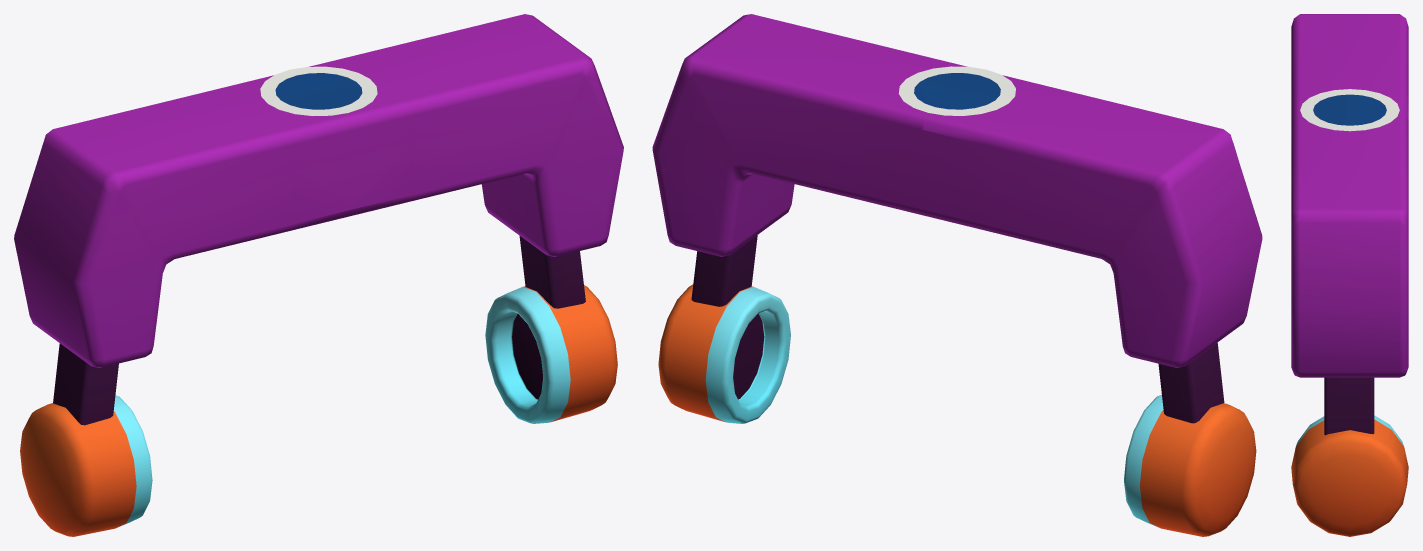
3 views of the same model, side by side, from view 1: azimuth 30°, elevation 25°; view 2: azimuth 150°, elevation 25°; view 3: azimuth 270°, elevation 25° (orthographic). The views are drawn at different scales.
Parts seen in each view (by area): view 1: shape2_2, top_cycle; view 2: shape2_2, top_cycle; view 3: shape2_2, top_cycle.
Part boxes in pixels (x1=…): shape2_2: x1=14, y1=14, x2=623, y2=536; top_cycle: x1=260, y1=66, x2=377, y2=115; shape2_2: x1=652, y1=14, x2=1262, y2=536; top_cycle: x1=898, y1=66, x2=1015, y2=115; shape2_2: x1=1291, y1=14, x2=1408, y2=536; top_cycle: x1=1300, y1=89, x2=1399, y2=131.
Size of the model in its own units: 23 by 15.06 by 5.
